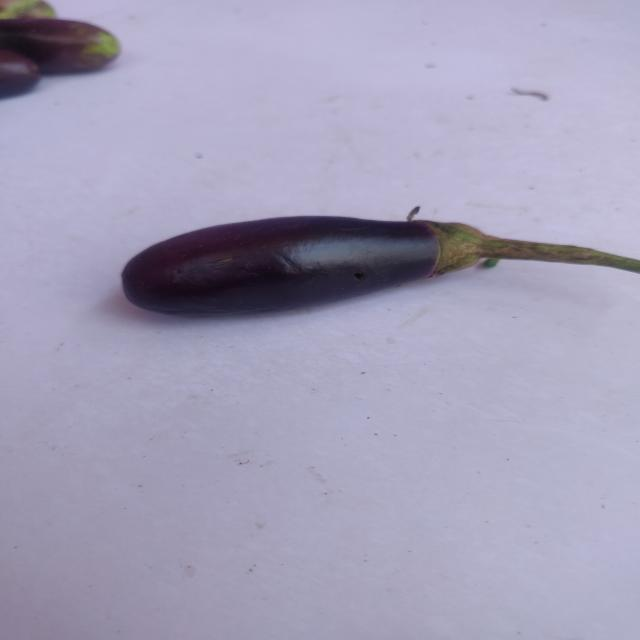Brinjal: (108, 189, 640, 332)
